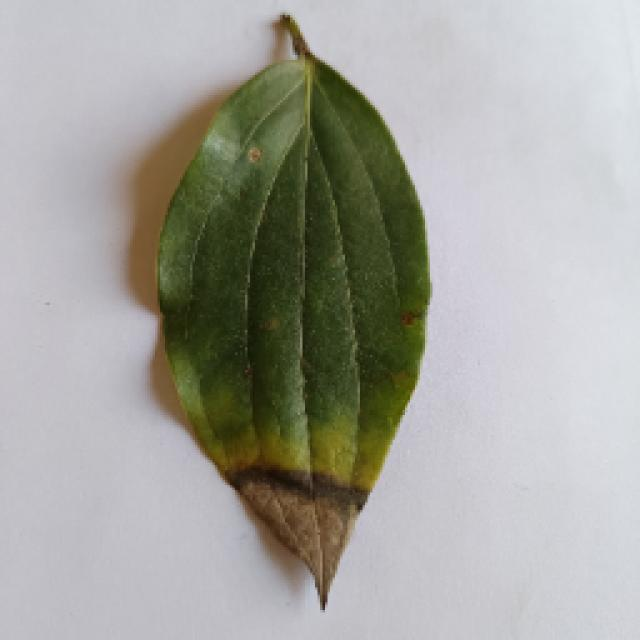footrot: (150, 27, 432, 605)
